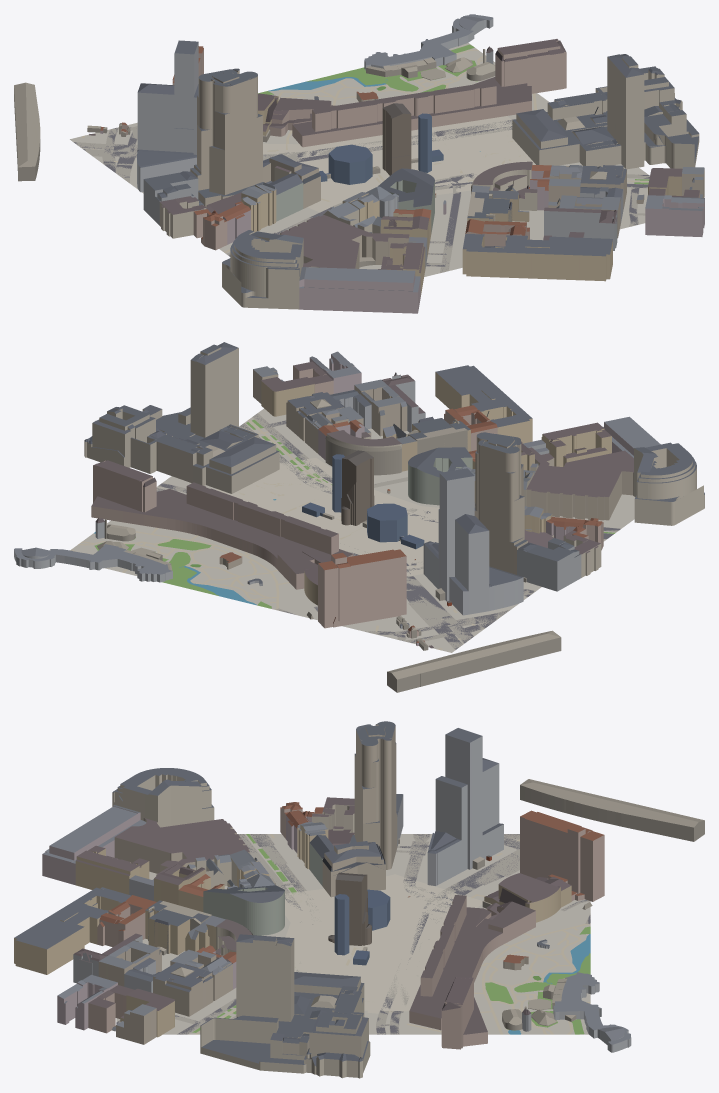
Rendered from kudamm.glb.
The picture shows the model from 3 angles, top to bottom: view 1: azimuth 30°, elevation 25°; view 2: azimuth 150°, elevation 25°; view 3: azimuth 270°, elevation 25°; orthographic projection. The views are drawn at different scales.
Visible parts, largest first — view 1: buildings, layer_path, ground, layer_curb, layer_road, layer_green, layer_water; view 2: buildings, ground, layer_path, layer_curb, layer_road, layer_green; view 3: buildings, layer_path, ground, layer_curb, layer_road, layer_green, layer_water.
Part boxes in pixels (x1,y1,x2,y2): buildings: [14, 14, 704, 313]; layer_path: [82, 49, 648, 252]; ground: [70, 43, 649, 276]; layer_curb: [73, 119, 649, 272]; layer_road: [74, 119, 649, 270]; layer_green: [258, 44, 649, 184]; layer_water: [268, 77, 480, 151]; buildings: [14, 342, 704, 692]; ground: [70, 408, 635, 652]; layer_path: [70, 419, 475, 649]; layer_curb: [156, 413, 620, 650]; layer_road: [156, 414, 620, 649]; layer_green: [94, 419, 615, 608]; buildings: [14, 721, 704, 1078]; layer_path: [194, 834, 590, 1034]; ground: [116, 834, 590, 1034]; layer_curb: [116, 834, 590, 1034]; layer_road: [116, 834, 590, 1034]; layer_green: [192, 834, 590, 1034]; layer_water: [508, 934, 590, 1034].
Size of the model in its own units: 570 by 121 by 583.
